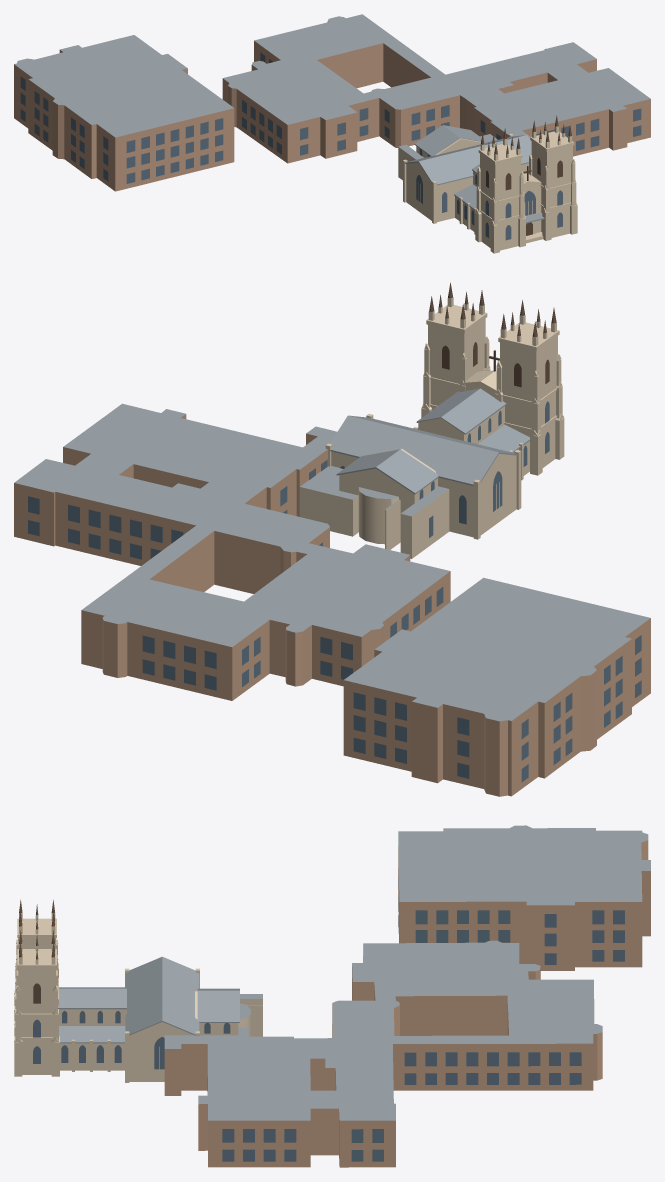
File: cola-trinity-cathedral.glb
3 views of the same model, one above another, from view 1: azimuth 30°, elevation 25°; view 2: azimuth 150°, elevation 25°; view 3: azimuth 270°, elevation 25° (orthographic). The views are drawn at different scales.
Visible parts, largest first — view 1: Trinity Episcopal Cathedral; view 2: Trinity Episcopal Cathedral; view 3: Trinity Episcopal Cathedral.
Boxes of the visible parts, x1,y1,x2,y2 form: Trinity Episcopal Cathedral: (14, 14, 650, 253); Trinity Episcopal Cathedral: (14, 282, 650, 796); Trinity Episcopal Cathedral: (14, 825, 650, 1167).
Size of the model in its own units: 120 by 26.5 by 117.
